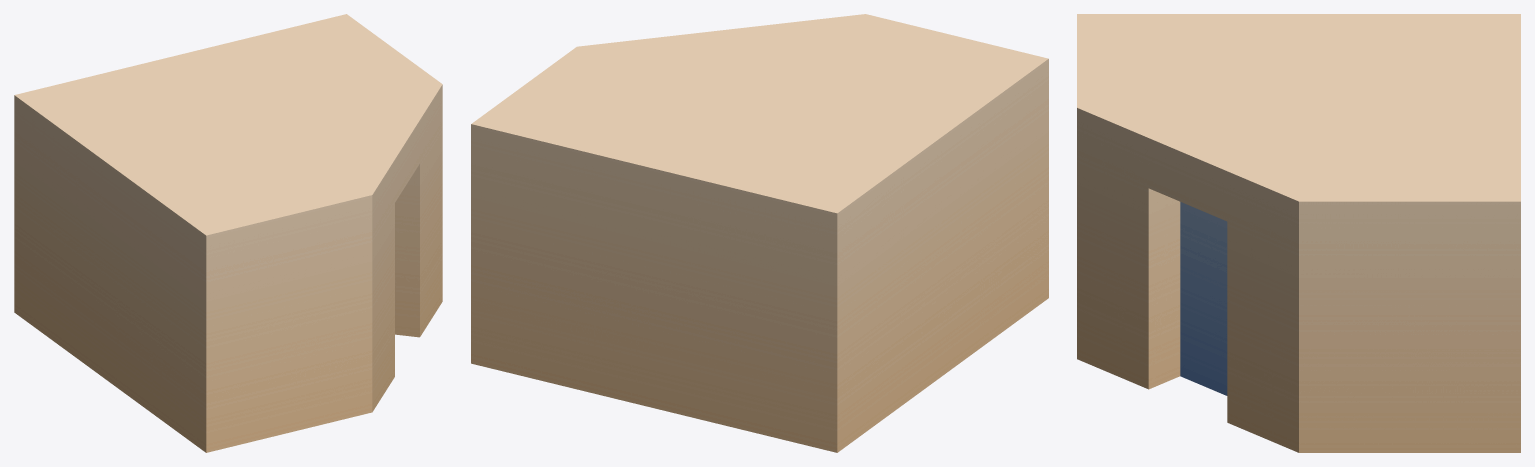
The picture shows the model from 3 angles, left to right: view 1: azimuth 30°, elevation 25°; view 2: azimuth 150°, elevation 25°; view 3: azimuth 270°, elevation 25°; orthographic projection. The views are drawn at different scales.
Parts seen in each view (by area): view 1: building-corner-window-narrow; view 2: building-corner-window-narrow; view 3: building-corner-window-narrow.
Boxes of the visible parts, x1,y1,x2,y2 form: building-corner-window-narrow: [14, 14, 442, 452]; building-corner-window-narrow: [471, 14, 1048, 452]; building-corner-window-narrow: [1077, 14, 1520, 452].
Bounding box in the file's own units: 1 × 0.625 × 1.
1 material, 1 textured.
